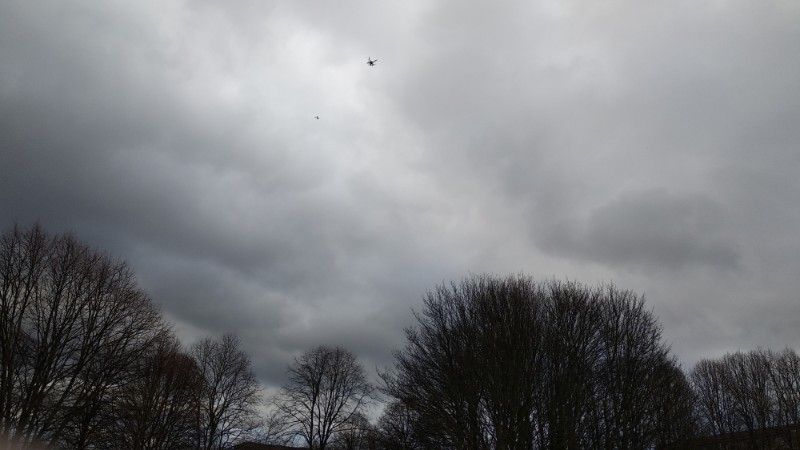drone: (366, 57, 377, 67)
